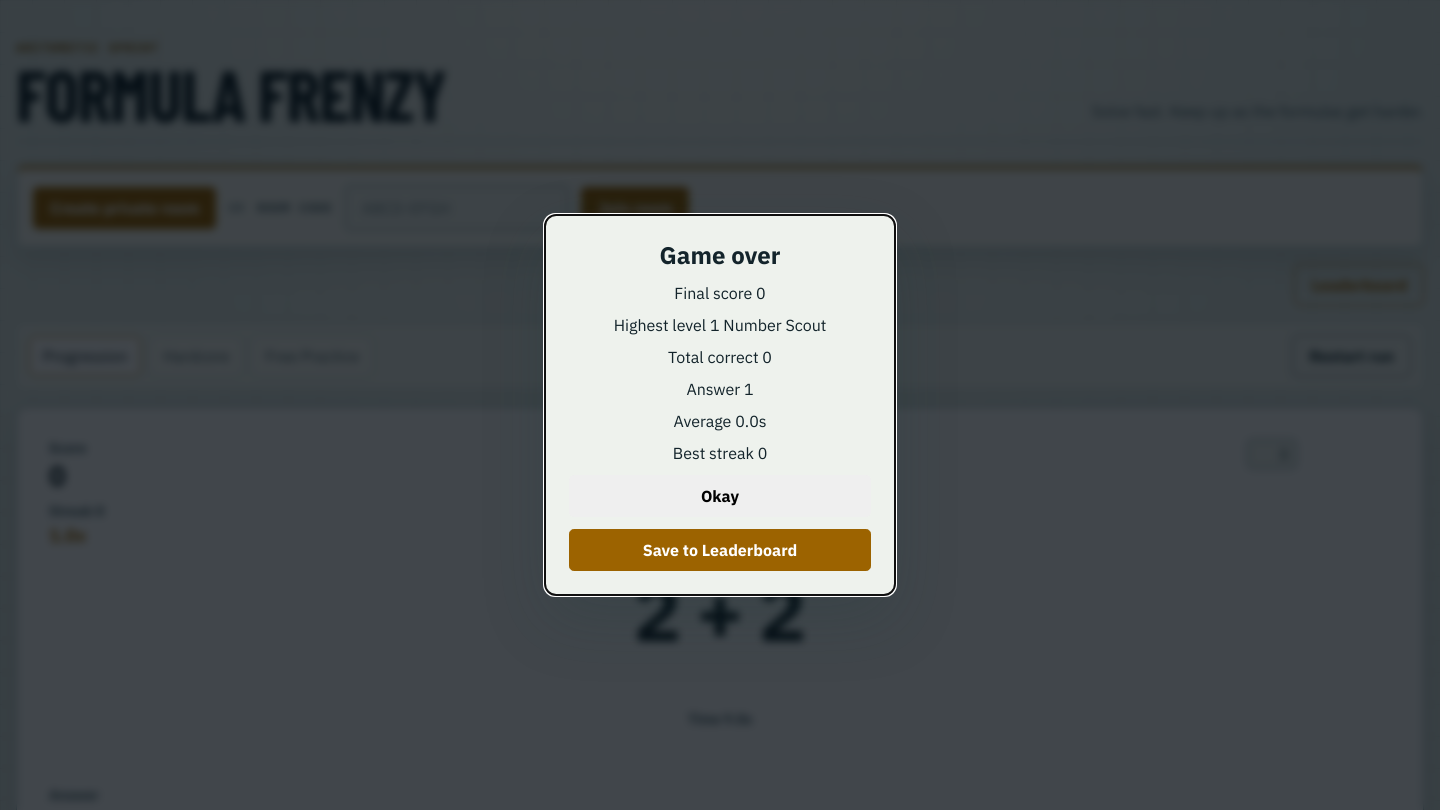
Test: FormulaFrenzyPageComponent › prompts guests to sign in before saving a leaderboard score
Click the button with class "save-leaderboard-button".
click(720, 550)  # box [569,529,871,571]
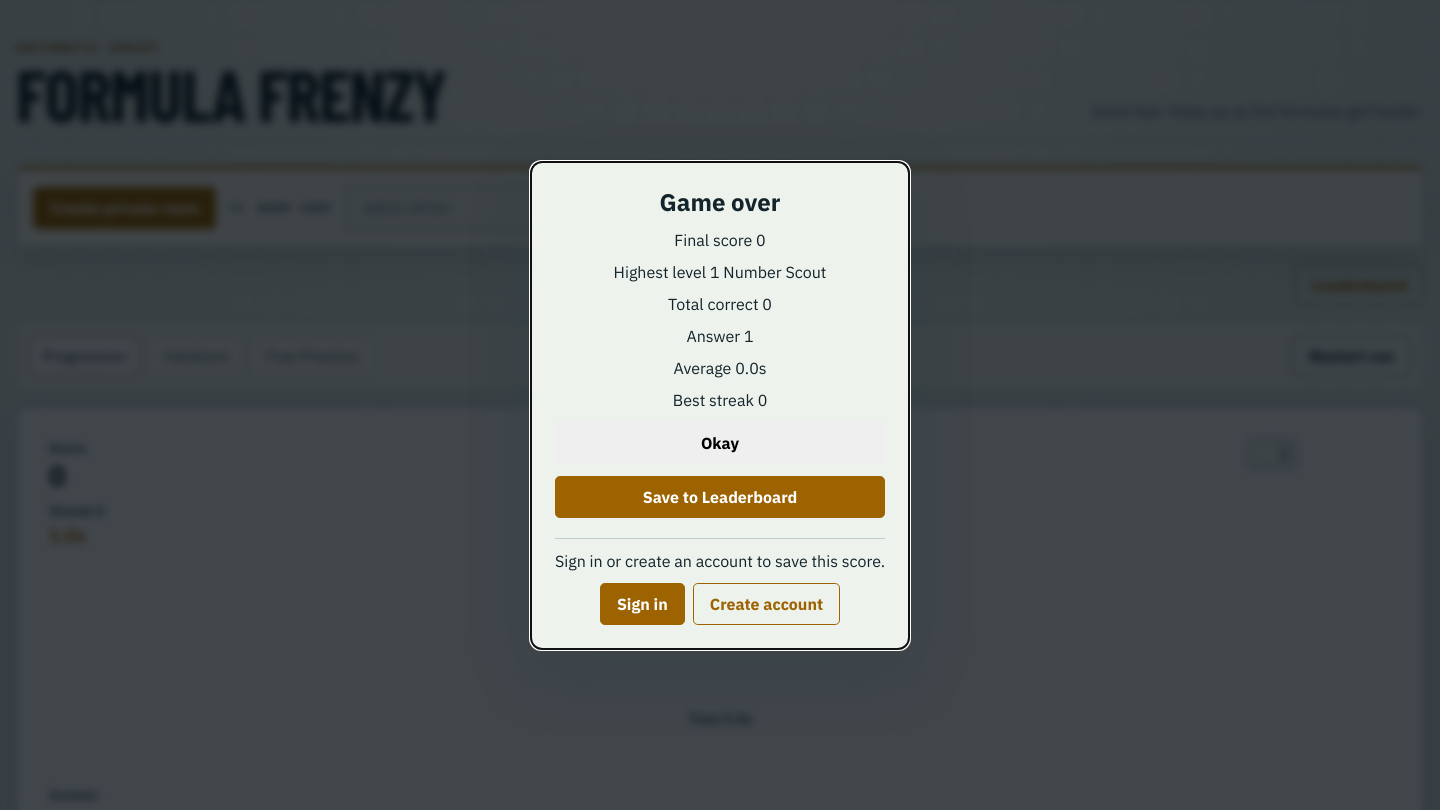
Check: the text "Sign in or create an account" is shown, box [555,550,885,570]
